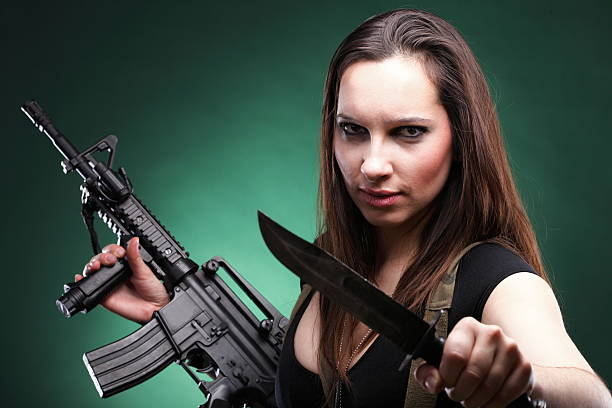gun: (17, 95, 328, 408)
knife: (257, 207, 549, 408)
